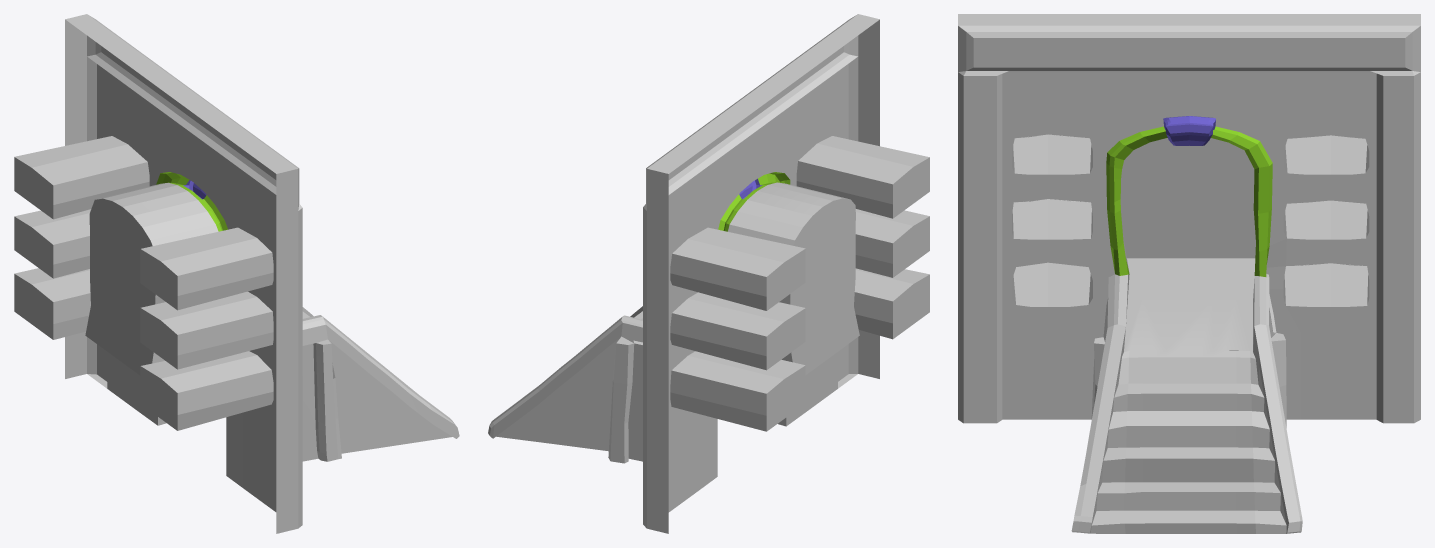
File: MATERIAL_backwall.fbx
3 views of the same model, side by side, from view 1: azimuth 30°, elevation 25°; view 2: azimuth 150°, elevation 25°; view 3: azimuth 270°, elevation 25° (orthographic). The views are drawn at different scales.
Visible parts, largest first — view 1: Cube; view 2: Cube; view 3: Cube.
Part boxes in pixels (box(x1,y1,x2,y2)): Cube: box(14, 14, 459, 533); Cube: box(488, 14, 929, 533); Cube: box(958, 14, 1420, 533).
Size of the model in its own units: 1494 by 1648 by 1748.
